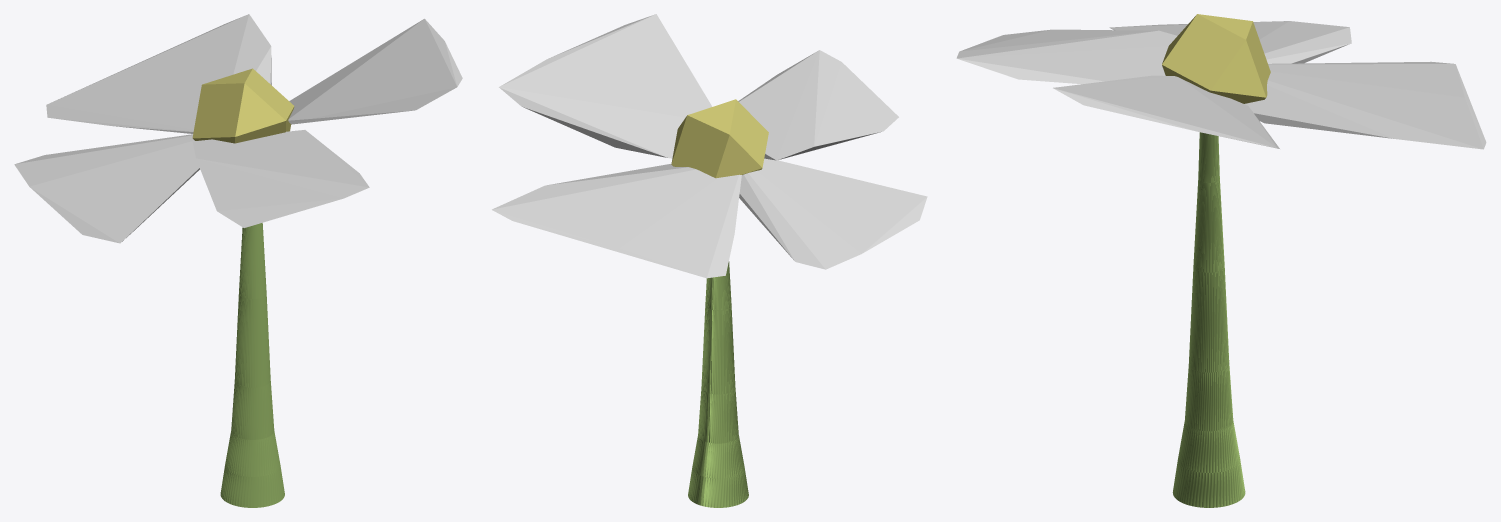
Rendered from Flower.fbx.
The picture shows the model from 3 angles, left to right: view 1: azimuth 30°, elevation 25°; view 2: azimuth 150°, elevation 25°; view 3: azimuth 270°, elevation 25°; orthographic projection. The views are drawn at different scales.
Parts seen in each view (by area): view 1: flower; view 2: flower; view 3: flower.
Boxes of the visible parts, box(x1,y1,x2,y2) form: flower: box(14, 14, 462, 507); flower: box(492, 14, 927, 507); flower: box(956, 14, 1486, 507).
Size of the model in its own units: 808 by 834 by 836.
